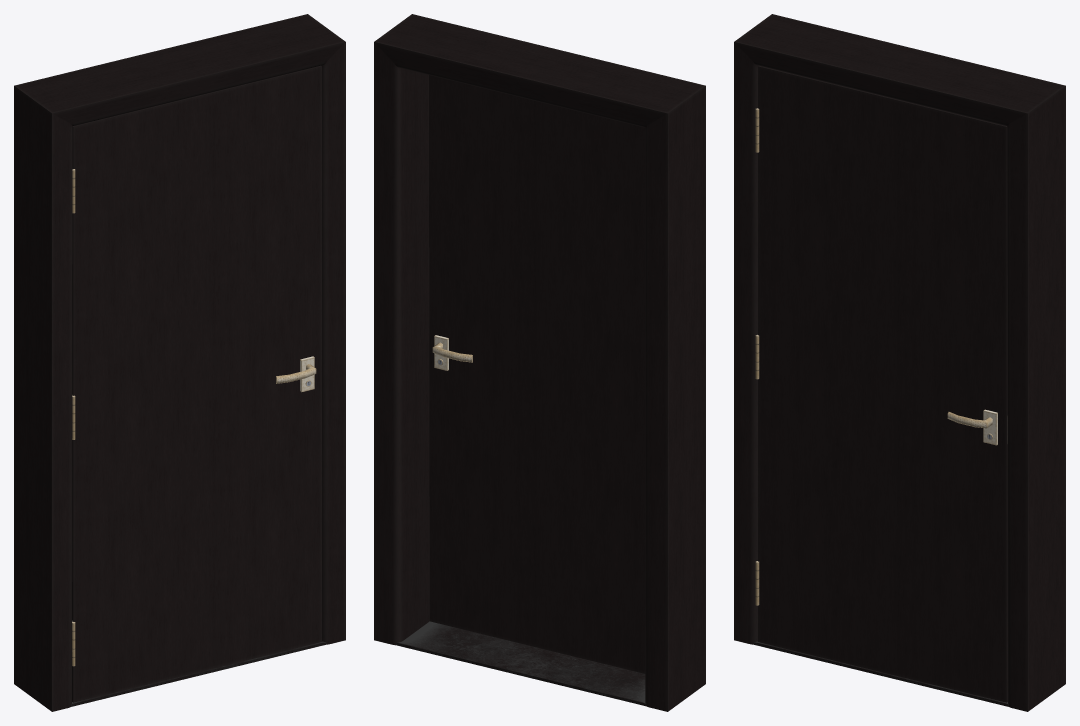
File: Door.FBX
3 views of the same model, side by side, from view 1: azimuth 30°, elevation 25°; view 2: azimuth 150°, elevation 25°; view 3: azimuth 330°, elevation 25° (orthographic).
Visible parts, largest first — view 1: Door, Frame; view 2: Door, Frame; view 3: Door, Frame.
Boxes of the visible parts, <box> form: Door: <box>72,65,321,702</box>; Frame: <box>14,14,345,711</box>; Door: <box>429,75,645,673</box>; Frame: <box>374,14,705,711</box>; Door: <box>755,65,1007,702</box>; Frame: <box>734,14,1065,711</box>.
Size of the model in its own units: 111 by 216 by 29.7.
